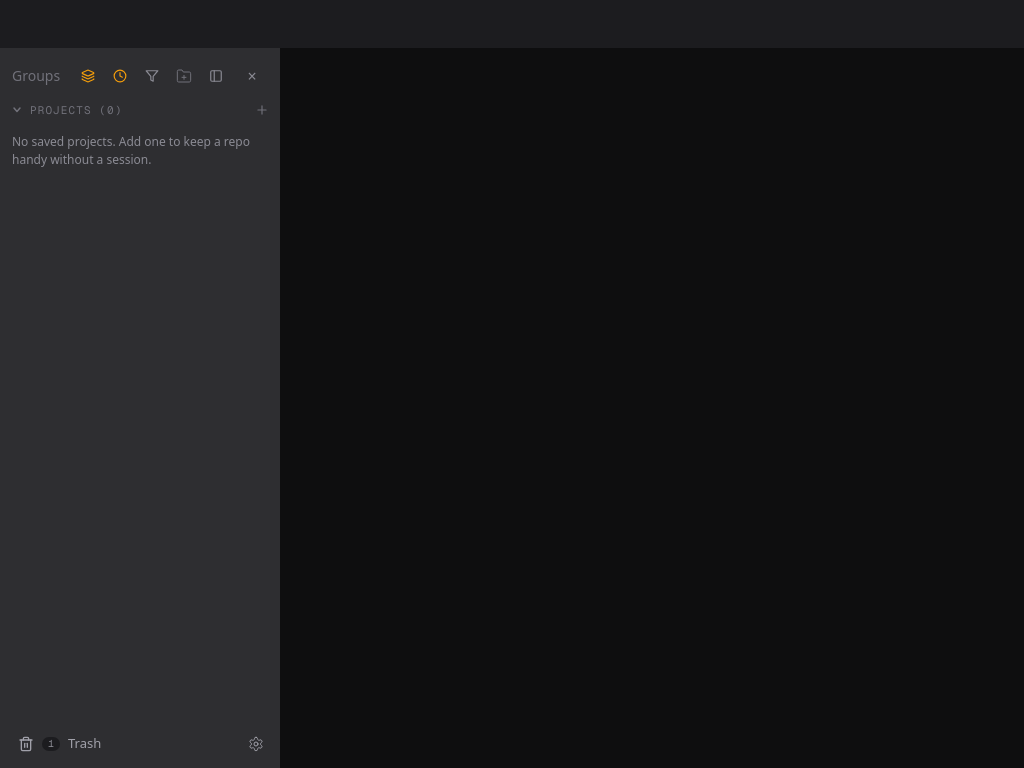
Test: WorkspaceSidebar Trash control (#2489, #2512) › keeps the Trash icon reachable while a filter hides every live row (#2512)
Click the button named "Filter sessions": (152, 76) x1=136 y1=60 x2=168 y2=92
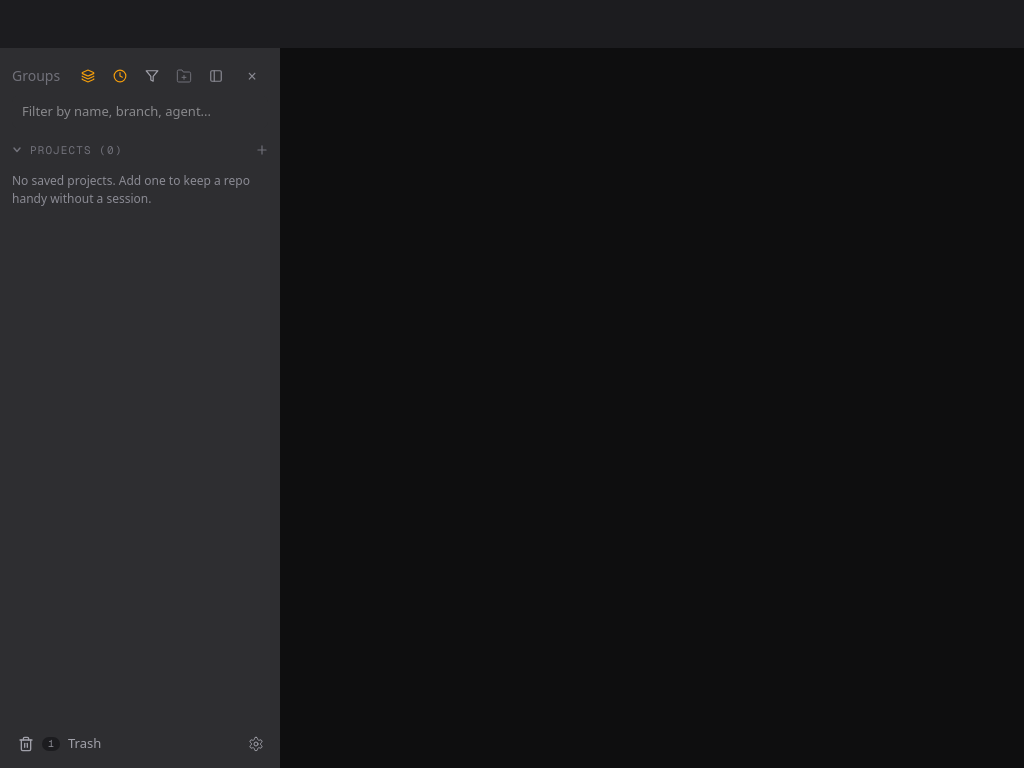
In the field with test id "sidebar-filter-input": (140, 112) x1=12 y1=96 x2=268 y2=128, type "zzz-no-match"
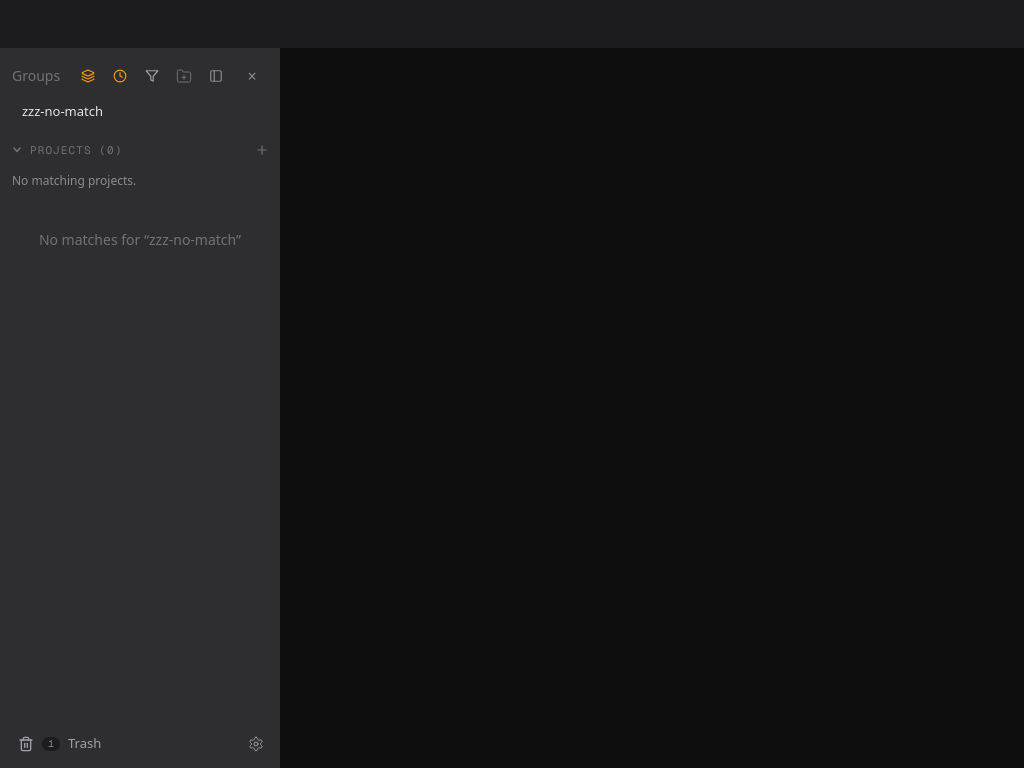
Click the button with test id "sidebar-trash-toggle": (122, 744) x1=8 y1=728 x2=236 y2=760
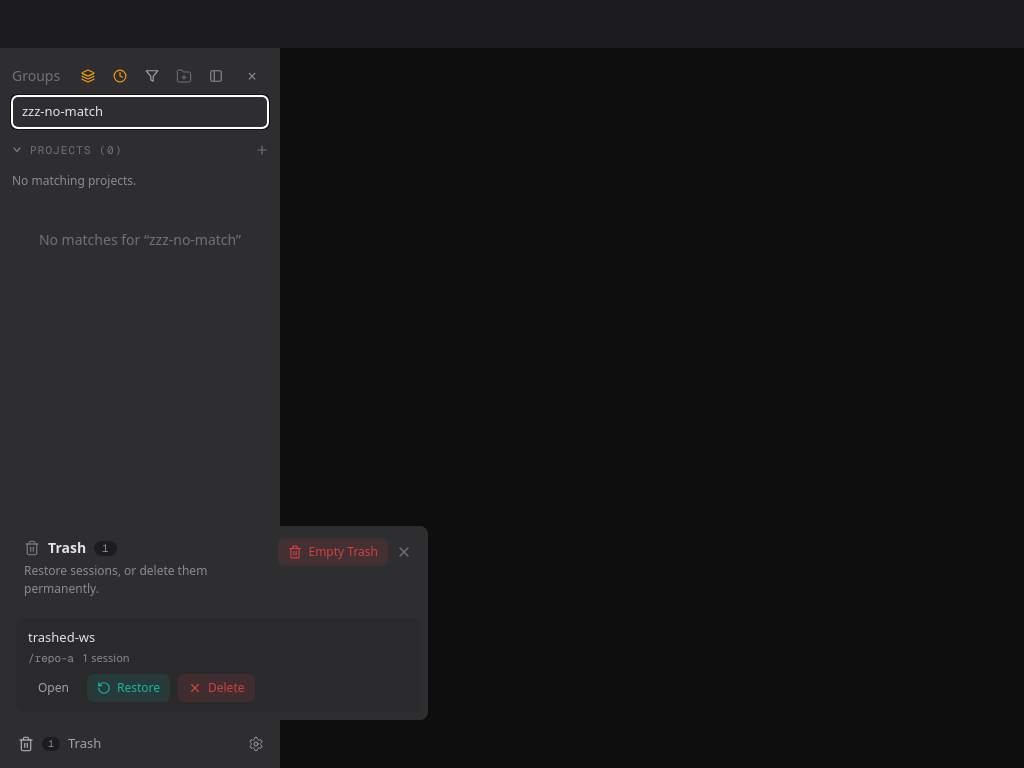
Expected: the element with test id "sidebar-trash-row" is shown, x1=16 y1=618 x2=420 y2=712
